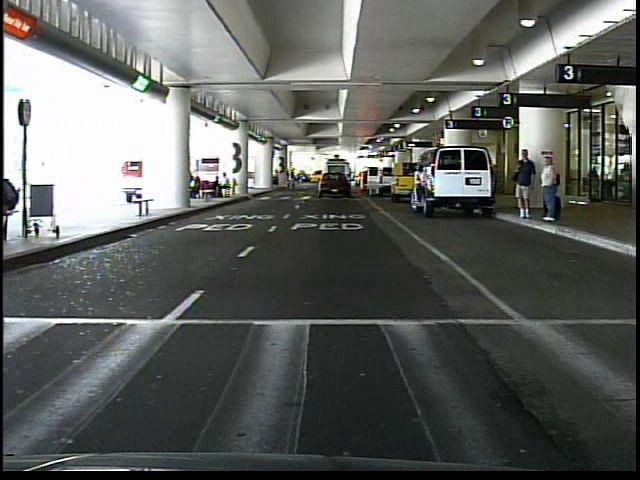person: (510, 146, 537, 223), (538, 151, 561, 225), (271, 167, 282, 191), (340, 171, 349, 192)
